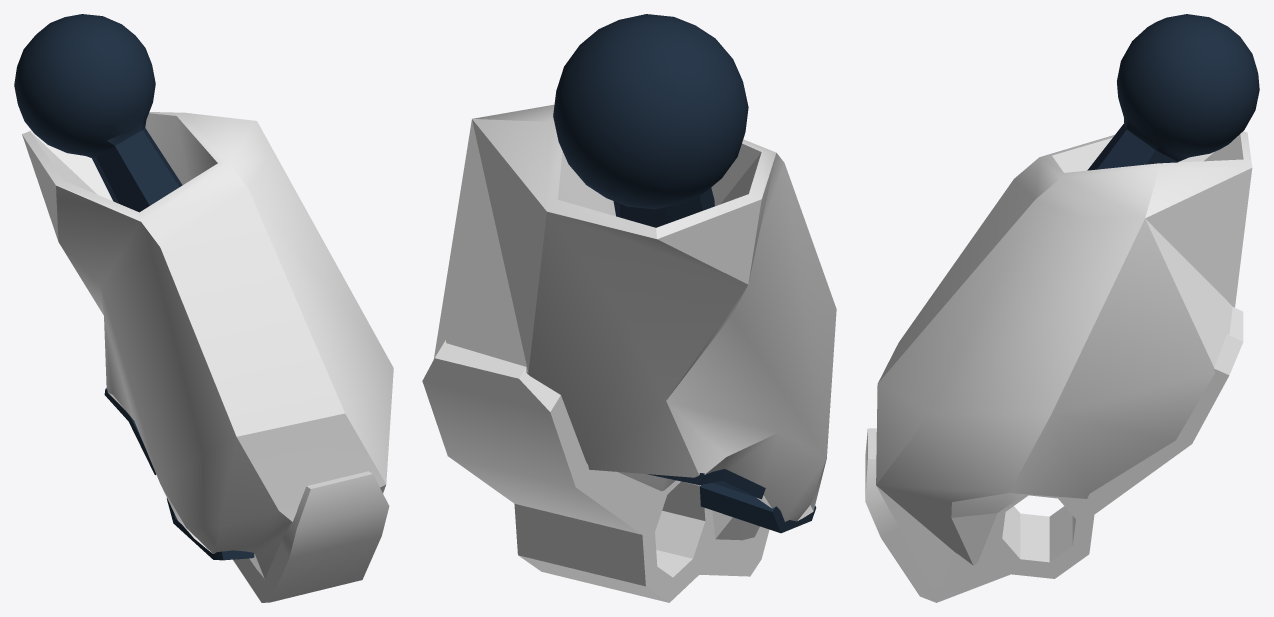
Rendered from leg_upper.fbx.
3 renders of one model, left to right at view 1: azimuth 30°, elevation 25°; view 2: azimuth 150°, elevation 25°; view 3: azimuth 270°, elevation 25°, orthographic. The views are drawn at different scales.
Visible parts, largest first — view 1: robo; view 2: robo; view 3: robo.
Part boxes in pixels (left/top/right/bottom): robo: left=14, top=14, right=393, bottom=602; robo: left=422, top=14, right=836, bottom=602; robo: left=865, top=14, right=1259, bottom=602.
Size of the model in its own units: 50.93 by 88.6 by 62.12.
